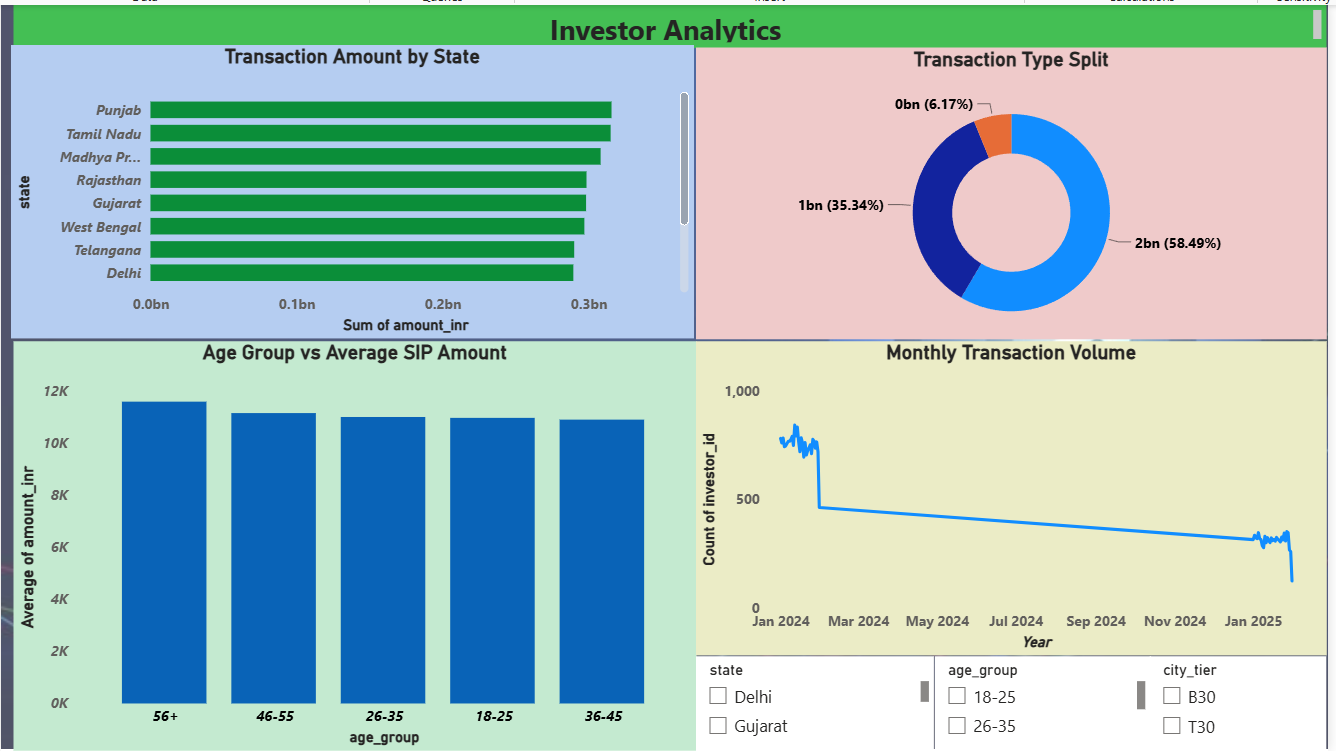

This screenshot's page, from the dashboard's own definition file:
{"tool":"powerbi","page":{"name":"INVESTOR ANALYTICS ","canvas":[1280,720],"ordinal":3},"visuals":[{"type":"textbox","box":[0,0,224,720],"z":0},{"type":"clusteredBarChart","title":"Transaction Amount by State","fields":{"Category":["Investor_Transaction.state"],"Y":["Sum(Investor_Transaction.amount_inr)"]},"box":[704,0,576,384],"z":1000},{"type":"donutChart","title":"Transaction Type Split","fields":{"Y":["Sum(Investor_Transaction.amount_inr)"],"Category":["Investor_Transaction.transaction_type"]},"box":[224,0,480,384],"z":2000},{"type":"columnChart","title":"Age Group vs Average SIP Amount","fields":{"Y":["Avg(Investor_Transaction.amount_inr)"],"Category":["Investor_Transaction.age_group"]},"box":[704,384,576,336],"z":3000},{"type":"lineChart","title":"Monthly Transaction Volume","fields":{"Category":["Investor_Transaction.transaction_date.Variation.Date Hierarchy.Year","Investor_Transaction.transaction_date.Variation.Date Hierarchy.Day"],"Y":["CountNonNull(Investor_Transaction.investor_id)"]},"box":[224,384,480,336],"z":4000},{"type":"slicer","fields":{"Values":["Investor_Transaction.state"]},"box":[0,176,224,80],"z":5000},{"type":"slicer","fields":{"Values":["Investor_Transaction.age_group"]},"box":[0,320,224,80],"z":6000},{"type":"slicer","fields":{"Values":["Investor_Transaction.city_tier"]},"box":[0,464,224,80],"z":7000}]}

Visuals, with their boxes on the page's 1280x720 design canvas (x1, y1, x2, y2). These are canvas units, not pixel positions in the 1336x751 screenshot, which may show the page scaled, cropped or inside an application window:
textbox: 0:0:224:720
"Transaction Amount by State" clusteredBarChart: 704:0:1280:384
"Transaction Type Split" donutChart: 224:0:704:384
"Age Group vs Average SIP Amount" columnChart: 704:384:1280:720
"Monthly Transaction Volume" lineChart: 224:384:704:720
slicer - Investor_Transaction.state: 0:176:224:256
slicer - Investor_Transaction.age_group: 0:320:224:400
slicer - Investor_Transaction.city_tier: 0:464:224:544
